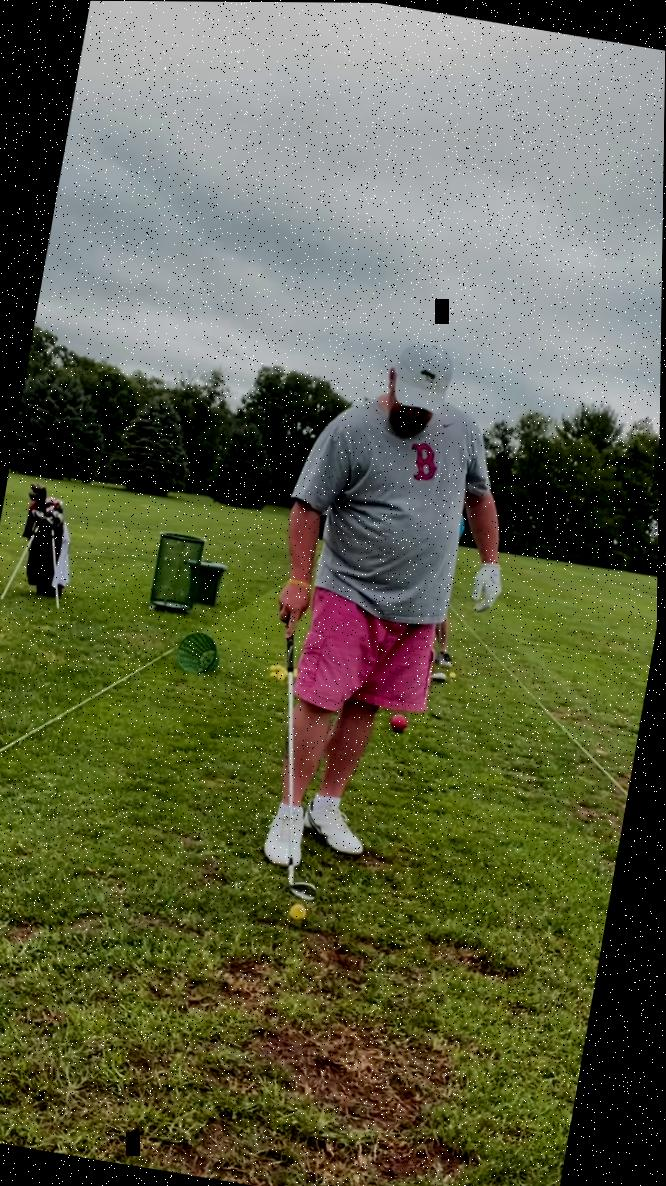ClubHead: (283, 857, 328, 915)
